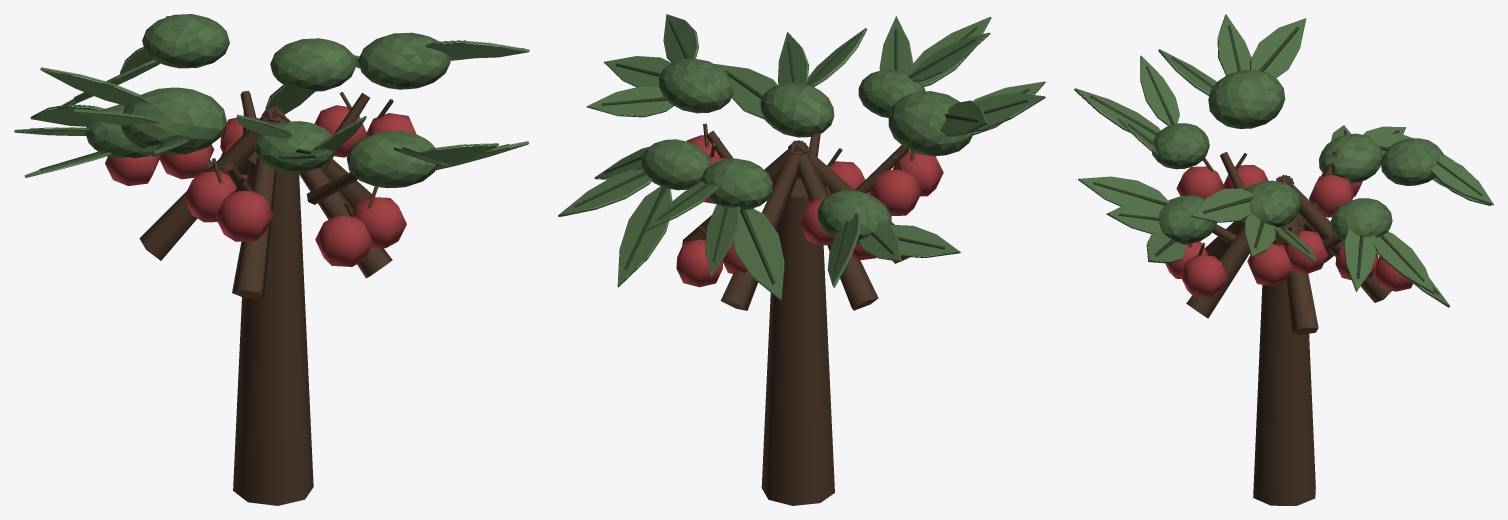
The model's file is cherry.glb.
3 renders of one model, left to right at view 1: azimuth 30°, elevation 25°; view 2: azimuth 150°, elevation 25°; view 3: azimuth 270°, elevation 25°, orthographic. The views are drawn at different scales.
Parts seen in each view (by area): view 1: cropTreeInstances; view 2: cropTreeInstances; view 3: cropTreeInstances.
Boxes of the visible parts, <box> form: cropTreeInstances: <box>14,14,529,505</box>; cropTreeInstances: <box>558,14,1045,505</box>; cropTreeInstances: <box>1074,14,1493,505</box>.
Bounding box in the file's own units: 2.06 × 1.97 × 1.93.
